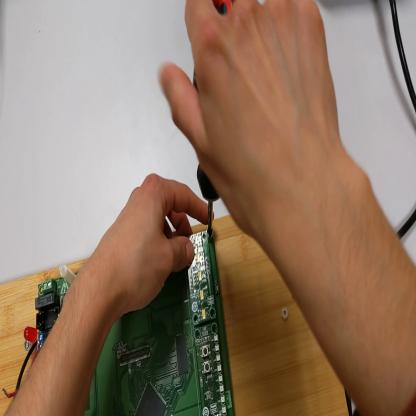hand: (160, 3, 348, 237), (100, 170, 207, 316)
low voltage board: (4, 233, 235, 416)
screwdriver-: (194, 69, 223, 238)
working area: (5, 216, 351, 416)
